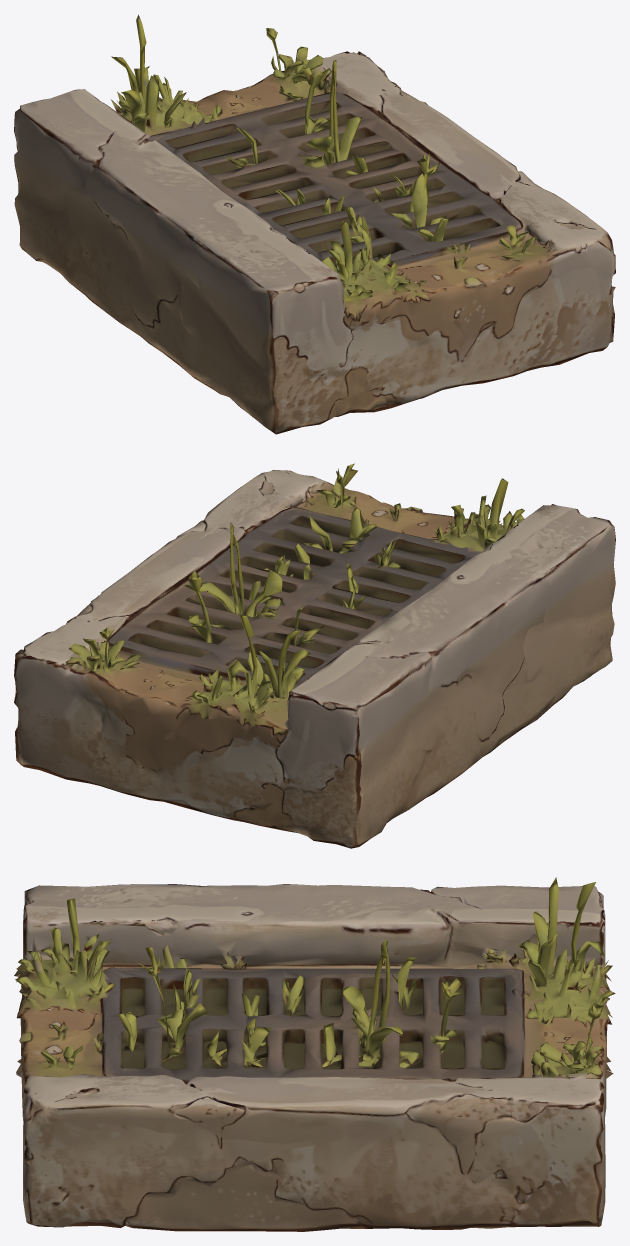
File: kit_window_well_grate.glb
3 views of the same model, one above another, from view 1: azimuth 30°, elevation 25°; view 2: azimuth 150°, elevation 25°; view 3: azimuth 270°, elevation 25° (orthographic). The views are drawn at different scales.
Visible parts, largest first — view 1: tripo_node_ef8c49d0-af55-4096-8223-69e68ce0a7b2; view 2: tripo_node_ef8c49d0-af55-4096-8223-69e68ce0a7b2; view 3: tripo_node_ef8c49d0-af55-4096-8223-69e68ce0a7b2.
Boxes of the visible parts, x1=… form: tripo_node_ef8c49d0-af55-4096-8223-69e68ce0a7b2: x1=14, y1=14, x2=615, y2=434; tripo_node_ef8c49d0-af55-4096-8223-69e68ce0a7b2: x1=14, y1=463, x2=615, y2=848; tripo_node_ef8c49d0-af55-4096-8223-69e68ce0a7b2: x1=14, y1=877, x2=615, y2=1231.
Size of the model in its own units: 0.7526 by 0.4245 by 1.
Materials: 1 (1 with a texture image).
